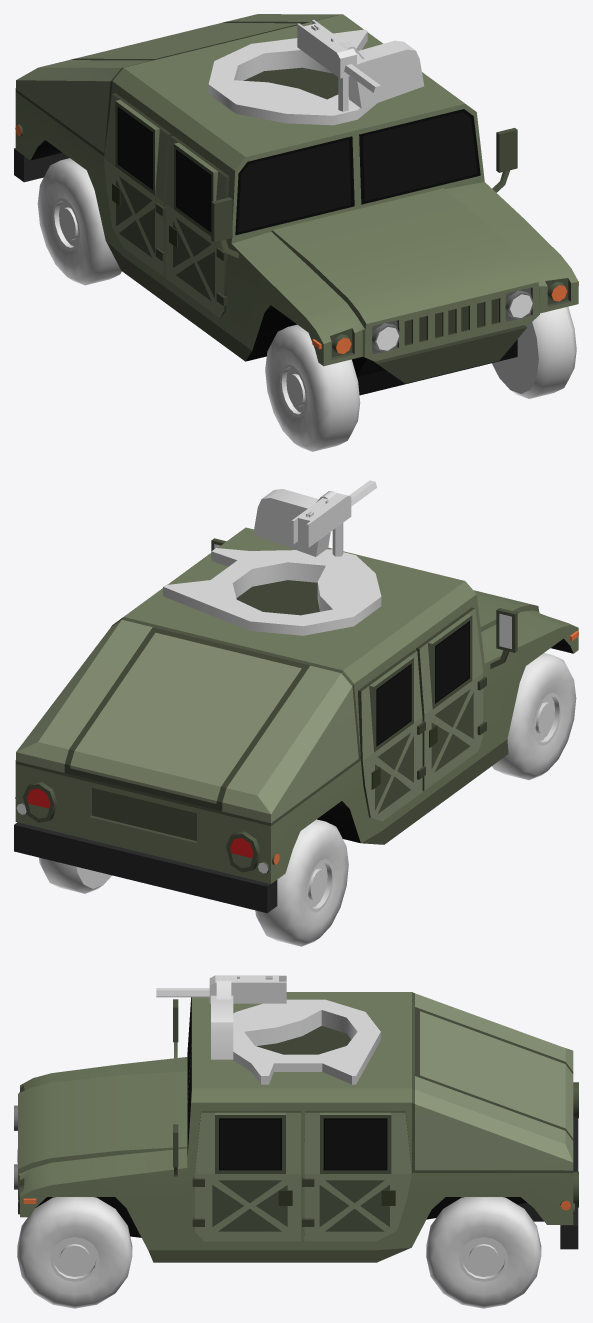
File: Car1.fbx
3 renders of one model, top to bottom at view 1: azimuth 30°, elevation 25°; view 2: azimuth 150°, elevation 25°; view 3: azimuth 270°, elevation 25°, orthographic. The views are drawn at different scales.
Parts seen in each view (by area): view 1: Body, Gun, FR, BR, FL; view 2: Body, Gun, BR, FR, BL; view 3: Body, Gun, BL, FL.
Part boxes in pixels (x1=…): Body: x1=14, y1=14, x2=578, y2=395; Gun: x1=208, y1=20, x2=424, y2=125; FR: x1=265, y1=324, x2=360, y2=451; BR: x1=37, y1=158, x2=121, y2=285; FL: x1=492, y1=306, x2=576, y2=398; Body: x1=14, y1=527, x2=578, y2=913; Gun: x1=163, y1=480, x2=381, y2=635; BR: x1=255, y1=819, x2=348, y2=946; FR: x1=492, y1=653, x2=576, y2=779; BL: x1=39, y1=857, x2=111, y2=893; Body: x1=14, y1=992, x2=578, y2=1262; Gun: x1=156, y1=975, x2=380, y2=1084; BL: x1=426, y1=1197, x2=541, y2=1308; FL: x1=17, y1=1197, x2=132, y2=1308.
Size of the model in its own units: 325 by 319 by 583.
